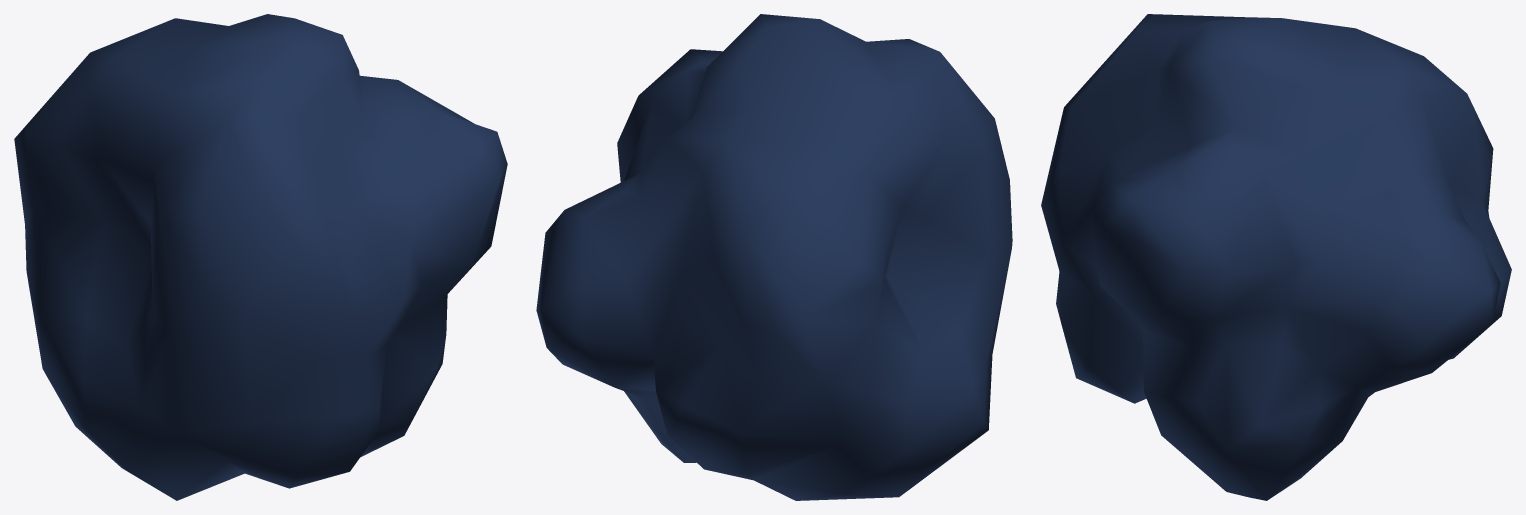
File: Mgenitalium_coaE_1viy_0_1_0.dae
3 views of the same model, side by side, from view 1: azimuth 30°, elevation 25°; view 2: azimuth 150°, elevation 25°; view 3: azimuth 270°, elevation 25° (orthographic). The views are drawn at different scales.
Parts seen in each view (by area): view 1: CoarseMS_1viy; view 2: CoarseMS_1viy; view 3: CoarseMS_1viy.
Part boxes in pixels (<box>): CoarseMS_1viy: <box>14,14,507,500</box>; CoarseMS_1viy: <box>536,14,1012,500</box>; CoarseMS_1viy: <box>1041,14,1511,500</box>.
Size of the model in its own units: 68.83 by 78.59 by 77.33.
